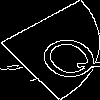Q: (25, 24, 100, 88)
